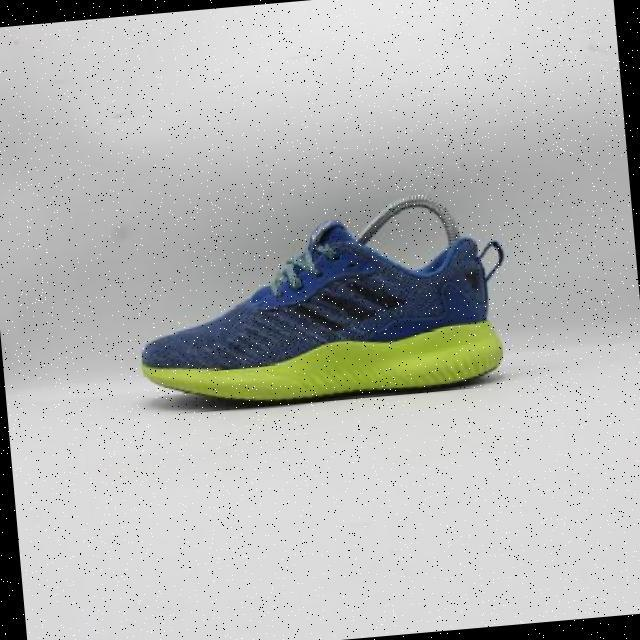Adidas: (265, 264, 406, 341)
